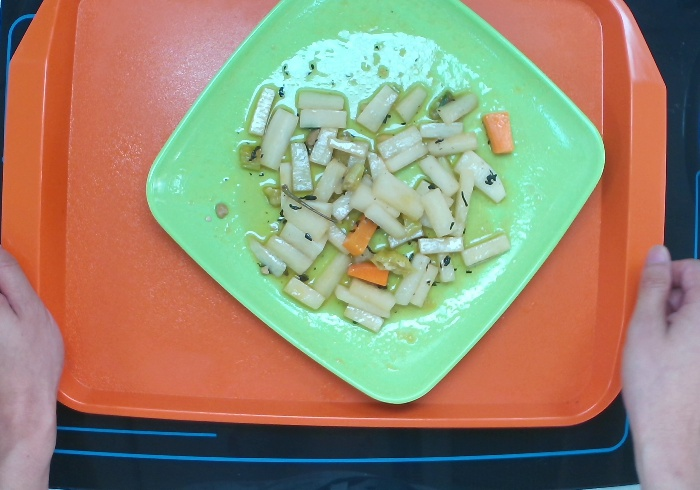ZNLD-Lv_Fang_Pan: (144, 1, 607, 408)
